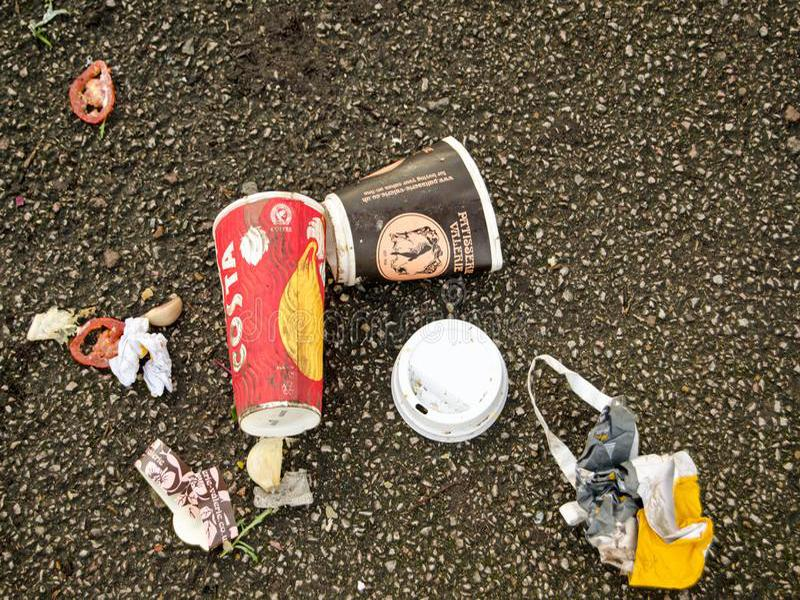cup: (211, 187, 334, 440), (320, 134, 507, 288)
paper: (133, 424, 237, 562), (110, 312, 182, 398)
